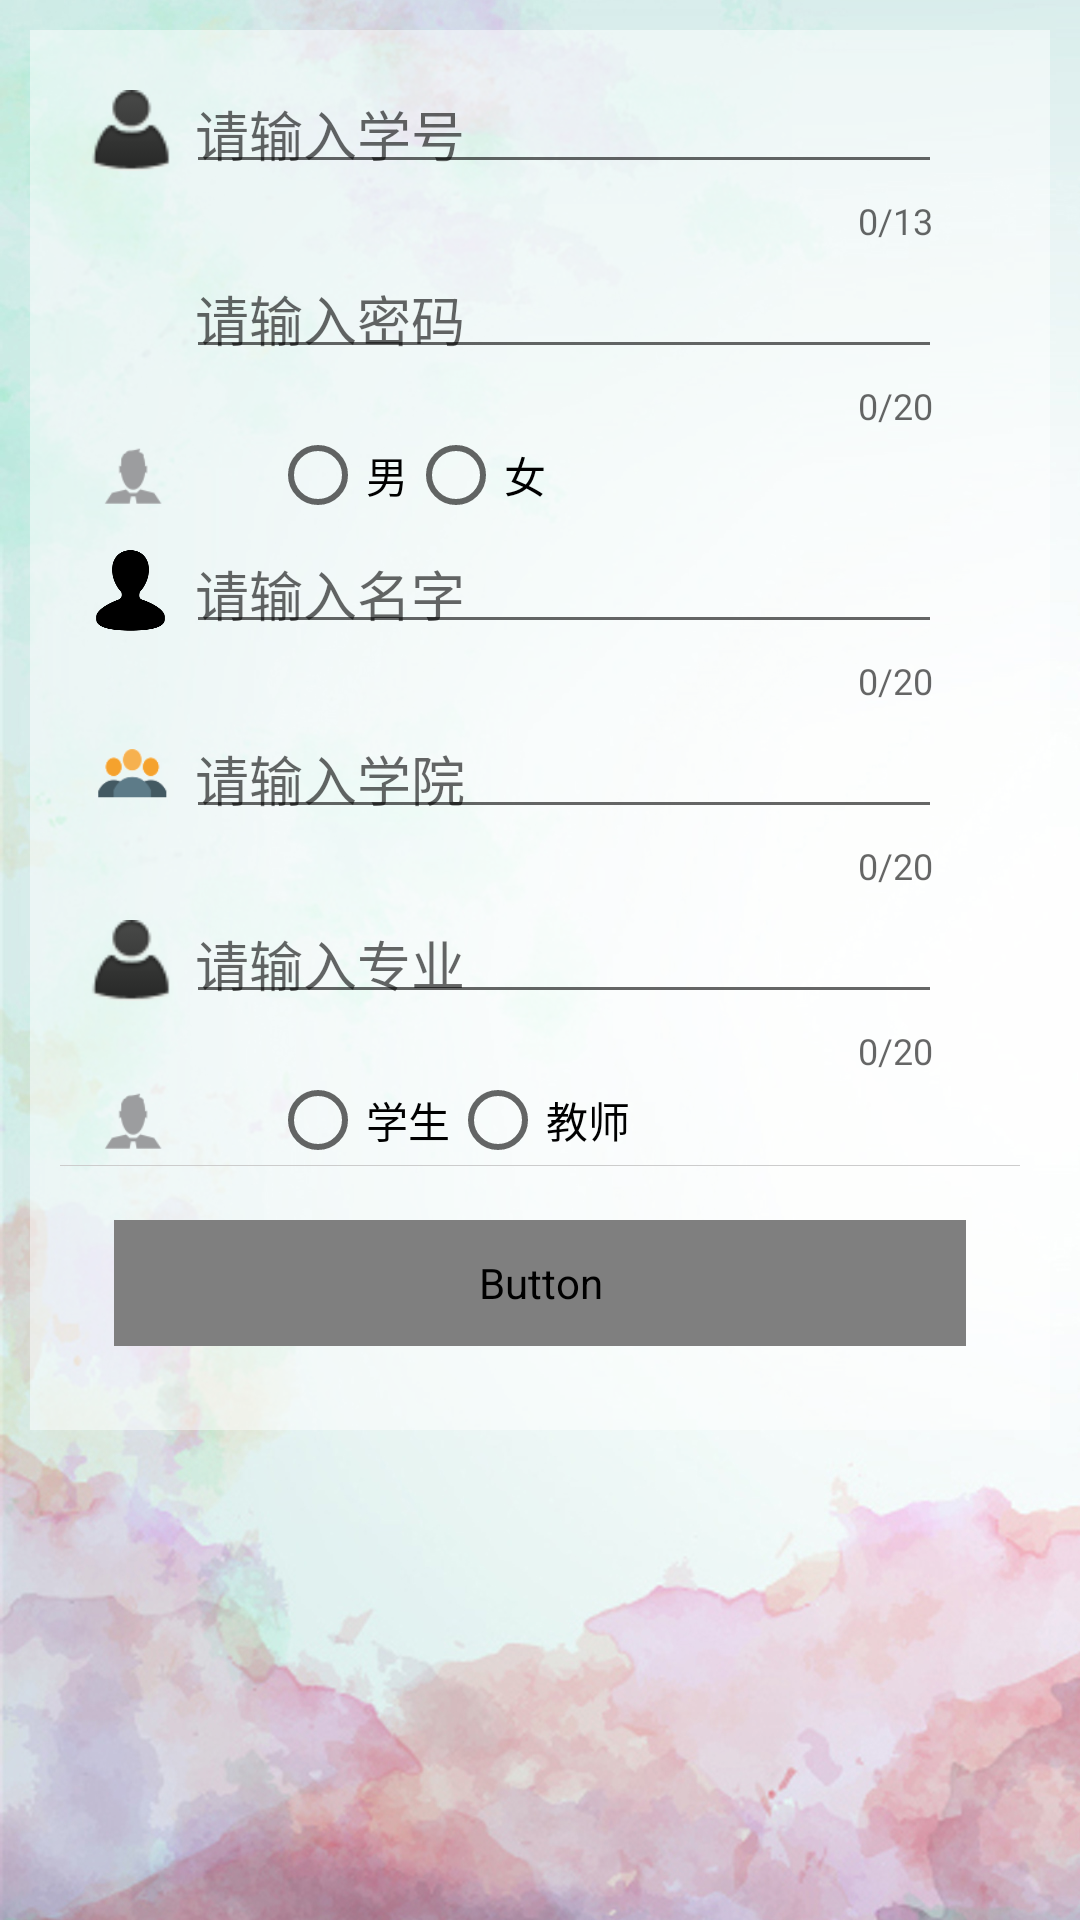

Screen size 1080w x 1920h. Icon name, then its center in pixels as (x,y):
aboutus: (132,773)
user: (130,130), (130,960)
